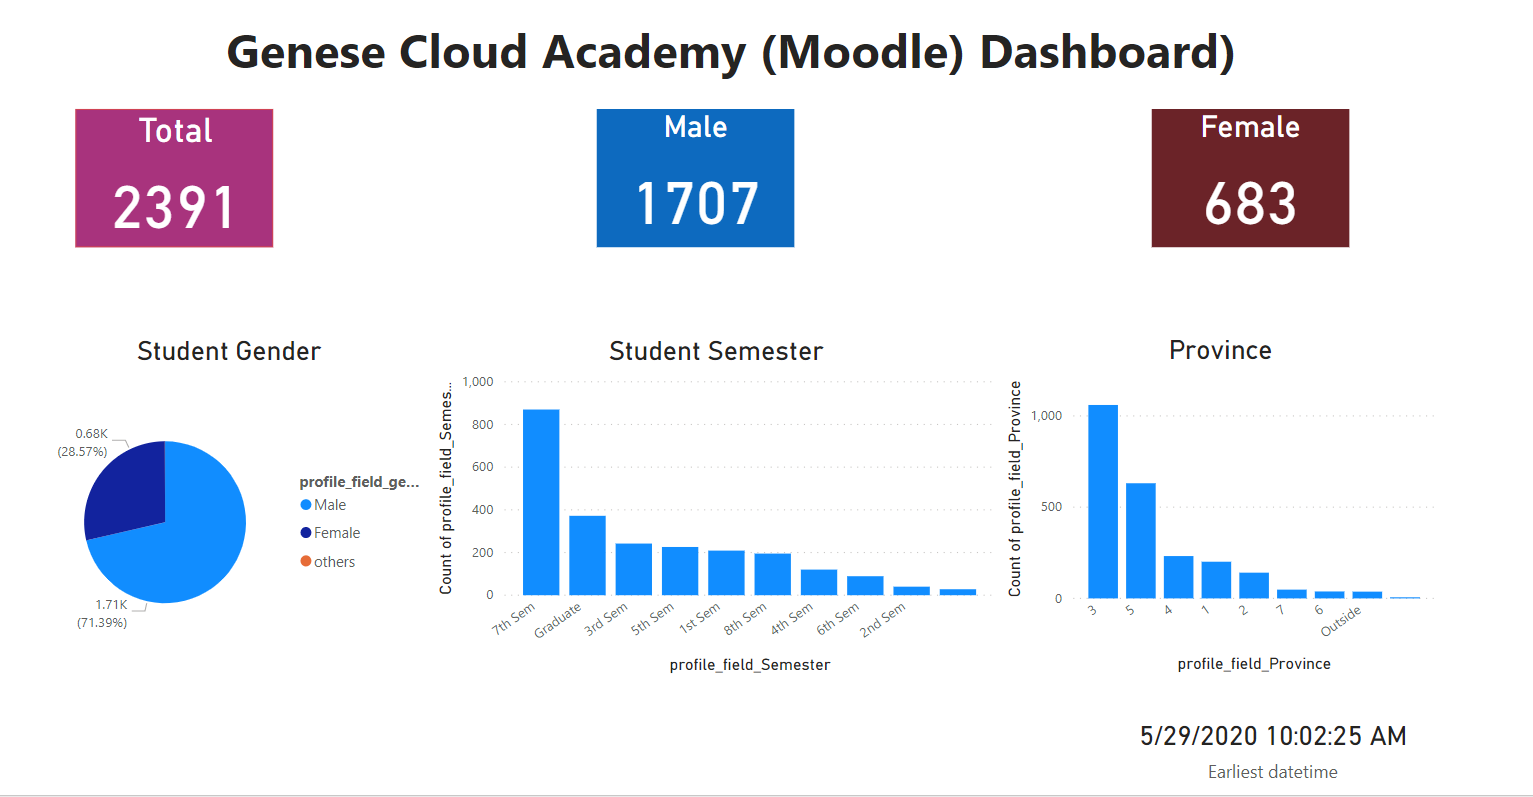

The page's visual inventory and layout, read from the dashboard file:
{"tool":"powerbi","page":{"name":"Dashboard","canvas":[1280,720],"ordinal":0},"visuals":[{"type":"pieChart","title":"Student Gender","fields":{"Category":["user_latest.profile_field_gender1"],"Series":["user_latest.profile_field_gender1"],"Y":["CountNonNull(user_latest.profile_field_gender)"]},"box":[2.1,303.2,367.2,310.5],"z":0},{"type":"columnChart","title":"Student Semester","fields":{"Category":["user_latest.profile_field_Semester1"],"Y":["CountNonNull(user_latest.profile_field_Semester)1"]},"box":[369.4,303.2,513.4,310.5],"z":1000},{"type":"columnChart","title":"Province","fields":{"Category":["user_latest.profile_field_Province1"],"Y":["CountNonNull(user_latest.profile_field_Province)1"]},"box":[882.3,302.7,397.4,310.5],"z":2000},{"type":"card","title":"Total","fields":{"Values":["CountNonNull(user_latest.id)"]},"box":[47.1,98.8,178.8,124.4],"z":3000},{"type":"card","title":"Male","fields":{"Values":["CountNonNull(user_latest.profile_field_gender)"]},"box":[518.2,98.8,178.8,124.4],"z":4000},{"type":"card","title":"Female","fields":{"Values":["CountNonNull(user_latest.profile_field_gender)"]},"box":[1019.5,98.8,178.8,124.4],"z":5000},{"type":"textbox","box":[0,10.9,1279.3,72.5],"z":6000},{"type":"card","fields":{"Values":["Min(Kathmandu.datetime)"]},"box":[994.2,641.5,268.2,68.9],"z":7000}]}

Visuals, with their boxes on the page's 1280x720 design canvas (x1, y1, x2, y2). These are canvas units, not pixel positions in the 1533x797 screenshot, which may show the page scaled, cropped or inside an application window:
"Student Gender" pieChart: [2,303,369,614]
"Student Semester" columnChart: [369,303,883,614]
"Province" columnChart: [882,303,1280,613]
"Total" card: [47,99,226,223]
"Male" card: [518,99,697,223]
"Female" card: [1020,99,1198,223]
textbox: [0,11,1279,83]
card - Min(Kathmandu.datetime): [994,642,1262,710]
